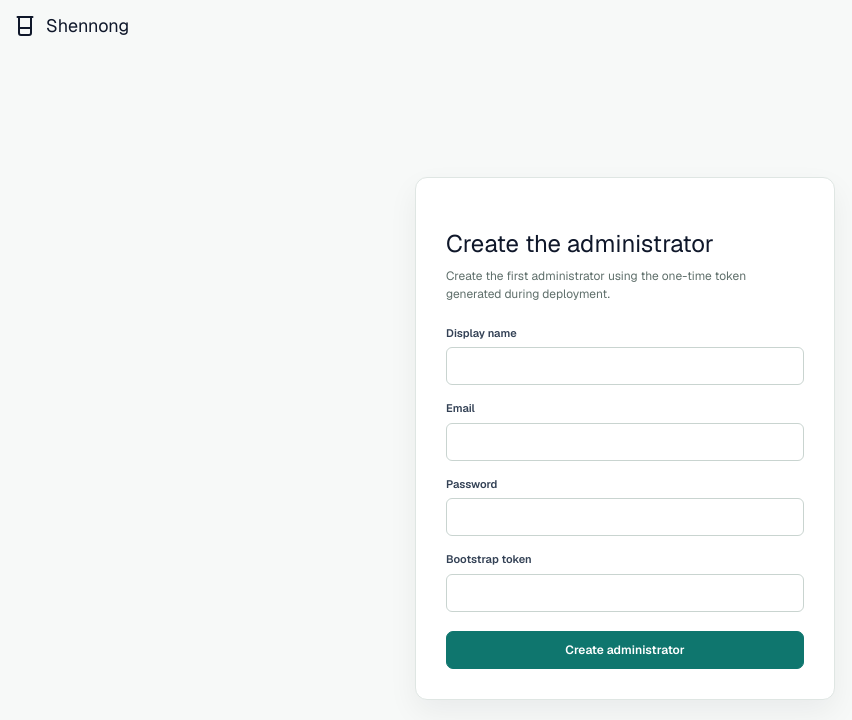
AuthView V1 contract › uses the authenticated bootstrap response without a second sign-in
Check: the heading "Create the administrator" is shown, box [446, 228, 714, 258]
Type "V1 Admin" into the field labelled "Display name" at point(625, 366), box [446, 347, 804, 385]
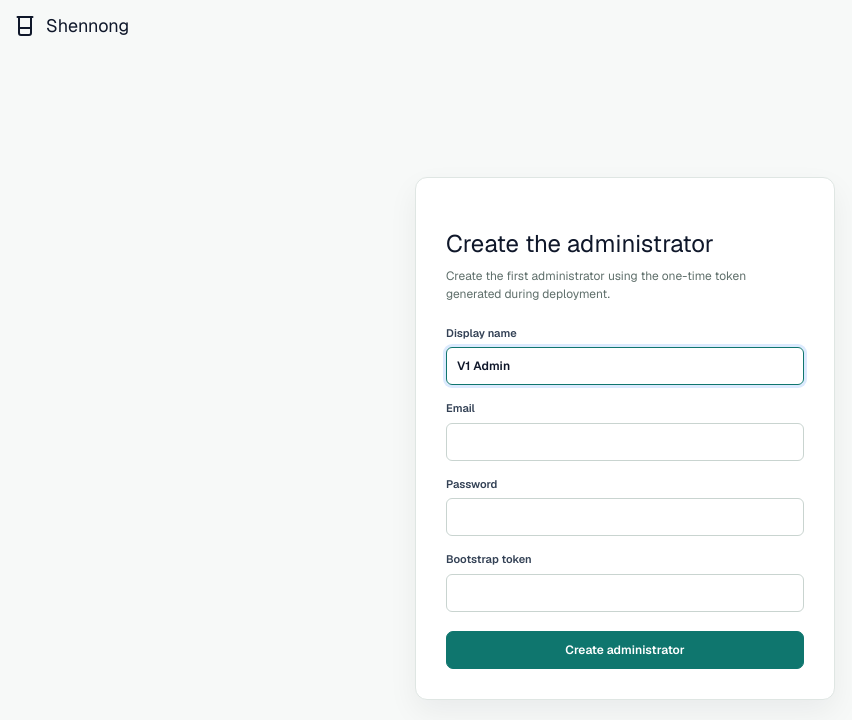
Type "admin@example.test" into the field labelled "Email" at point(625, 442), box [446, 422, 804, 460]
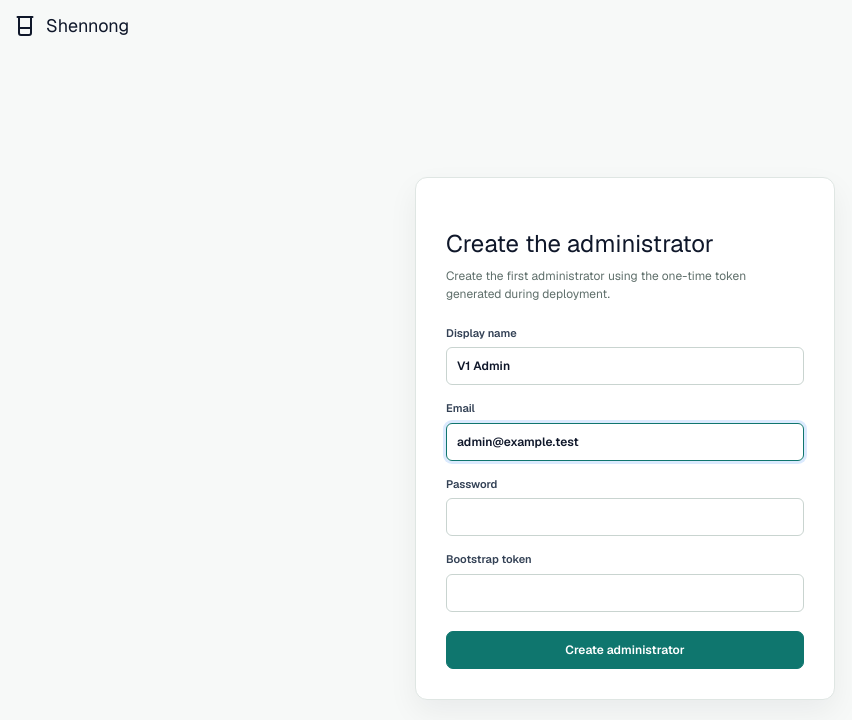
Type "correct-horse-battery-staple" into the password field labelled "Password" at point(625, 517), box [446, 498, 804, 536]
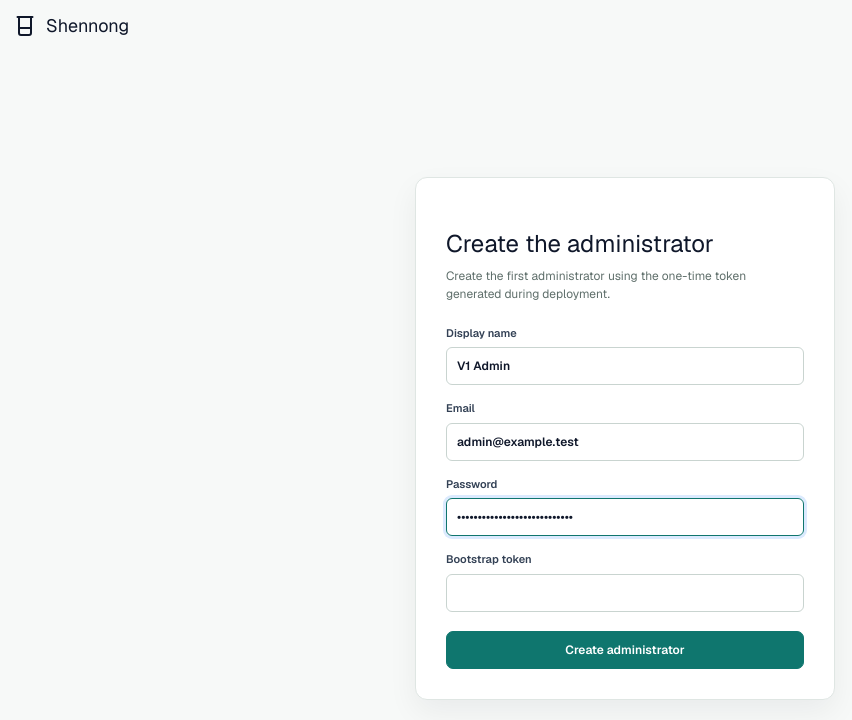
Type "bootstrap-secret" into the password field labelled "Bootstrap token" at point(625, 592), box [446, 574, 804, 612]
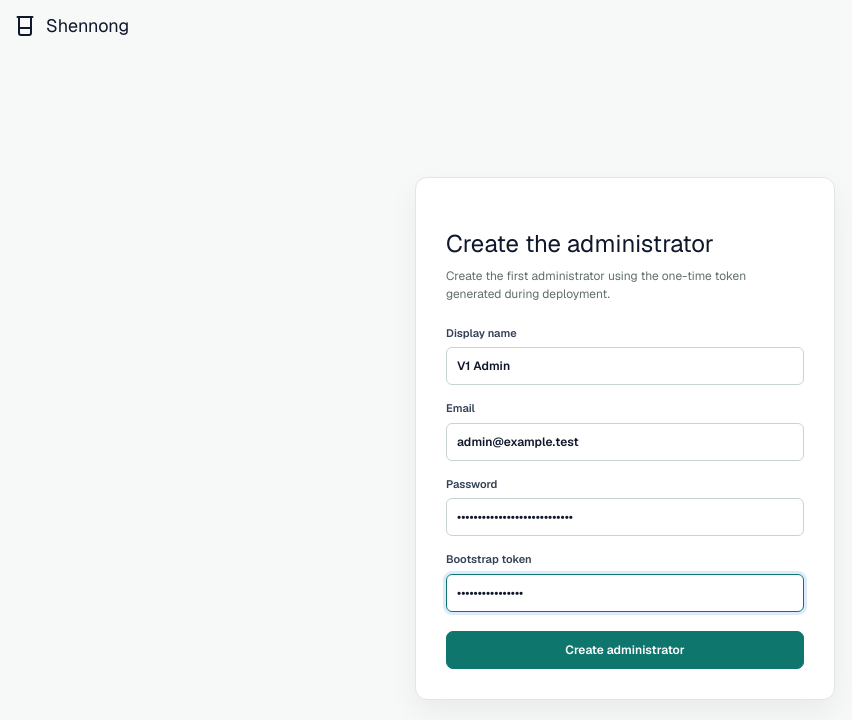
Click the button "Create administrator" at point(625, 650), box [446, 630, 804, 668]
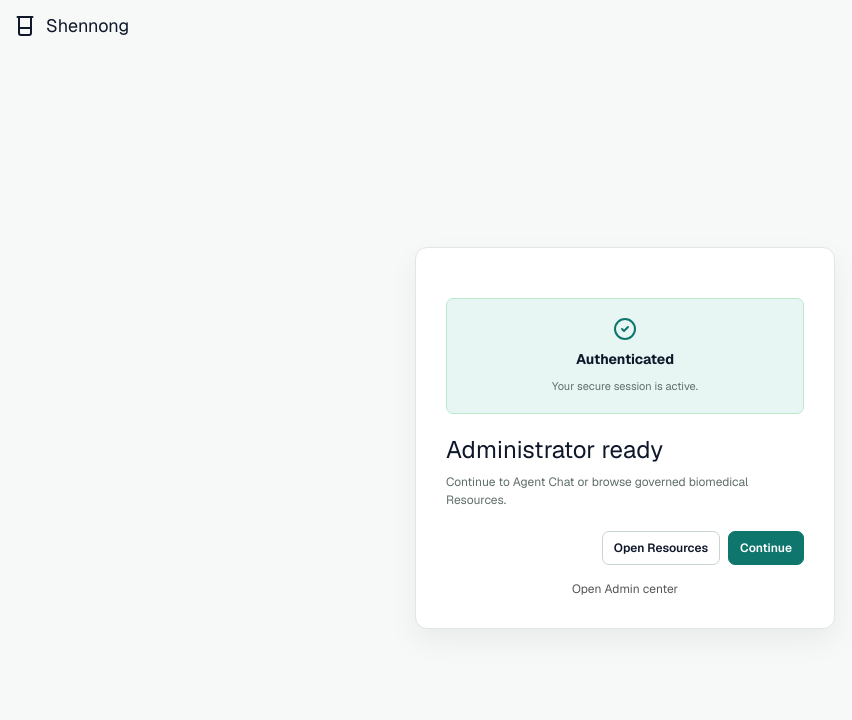
Check: the heading "Administrator ready" is shown, box [446, 434, 663, 465]
